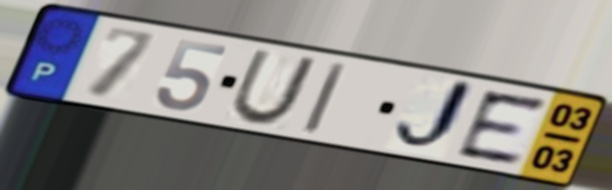5: (152, 36, 232, 113)
7: (82, 24, 159, 101)
E: (453, 87, 552, 166)
I: (298, 59, 352, 138)
J: (389, 75, 480, 155)
U: (226, 47, 322, 128)
